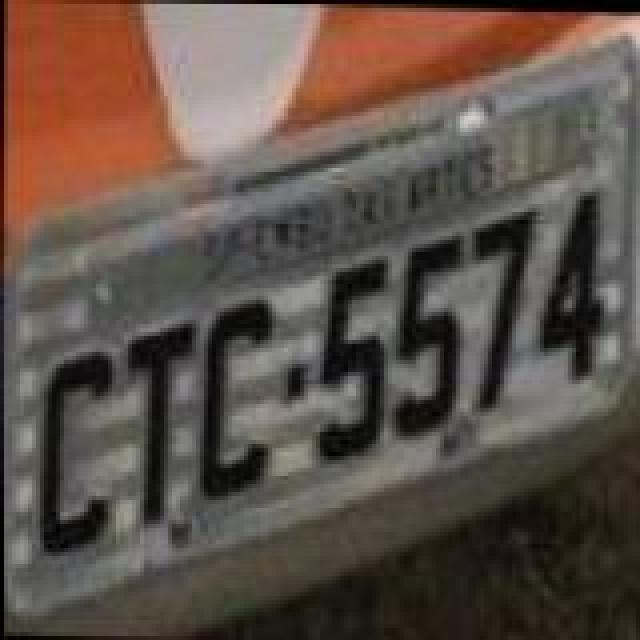4: (532, 186, 608, 378)
5: (386, 226, 466, 442), (314, 254, 394, 466)
7: (468, 206, 536, 414)
C: (34, 344, 118, 560), (192, 296, 272, 504)
T: (122, 316, 198, 532)
